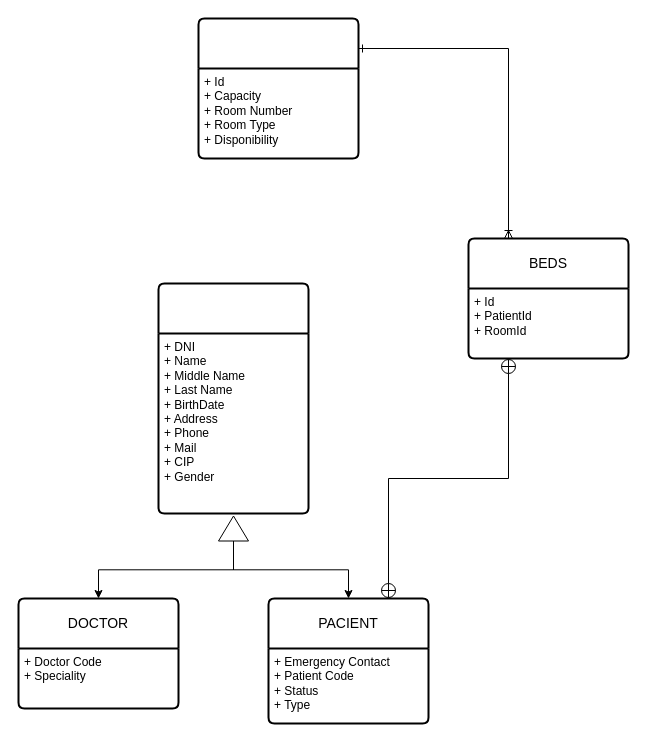
Image size: 646x741. Some labels were removed from this diagram. Each missing label, with the box of its shape:
PERSON: (157, 282, 309, 514)
ROOMS: (197, 17, 359, 159)
